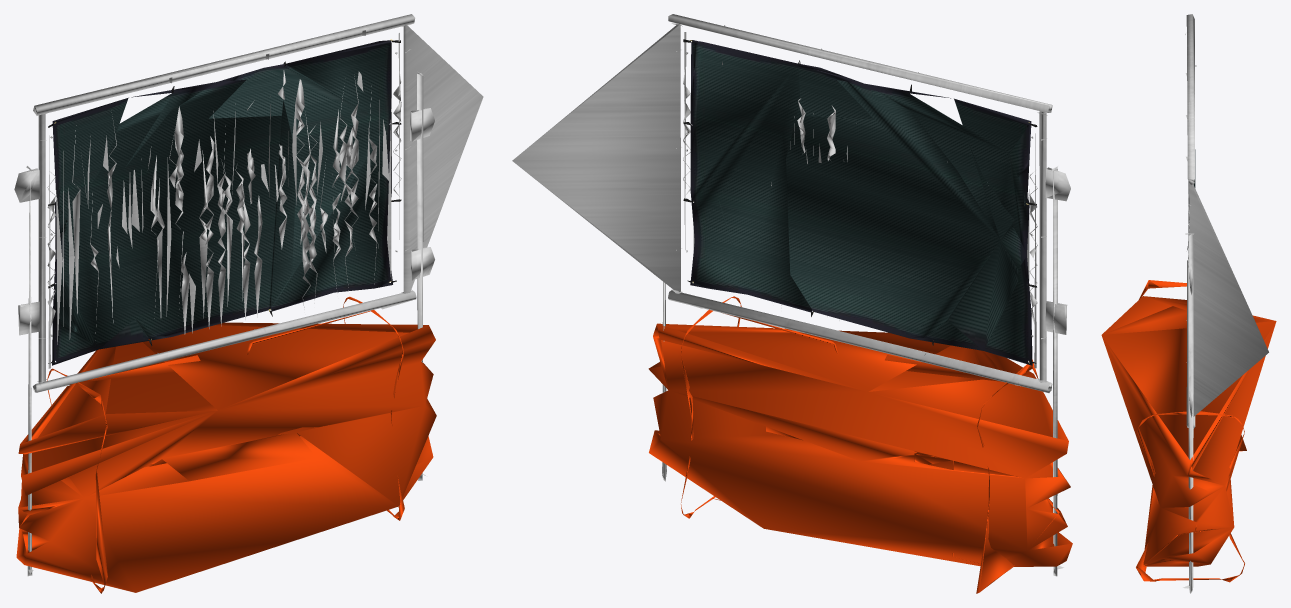
The model's file is barrier_orange.glb.
The picture shows the model from 3 angles, left to right: view 1: azimuth 30°, elevation 25°; view 2: azimuth 150°, elevation 25°; view 3: azimuth 270°, elevation 25°; orthographic projection. The views are drawn at different scales.
Parts seen in each view (by area): view 1: sm_barrier_wall_a03_mesh_00; view 2: sm_barrier_wall_a03_mesh_00; view 3: sm_barrier_wall_a03_mesh_00.
Boxes of the visible parts, bbox=[...] form: sm_barrier_wall_a03_mesh_00: bbox=[14, 14, 483, 593]; sm_barrier_wall_a03_mesh_00: bbox=[512, 14, 1072, 593]; sm_barrier_wall_a03_mesh_00: bbox=[1101, 14, 1276, 593].
Size of the model in its own units: 2.29 by 2.1 by 0.7655.
5 materials, 4 textured.
